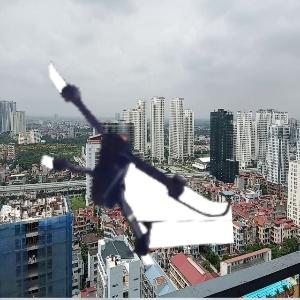drone: (8, 50, 229, 271)
